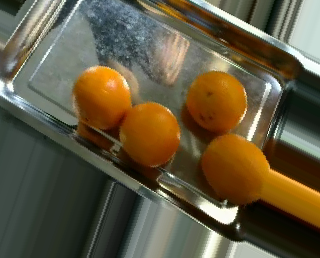Orange: (72, 65, 132, 130), (185, 70, 247, 132), (120, 101, 180, 165)
